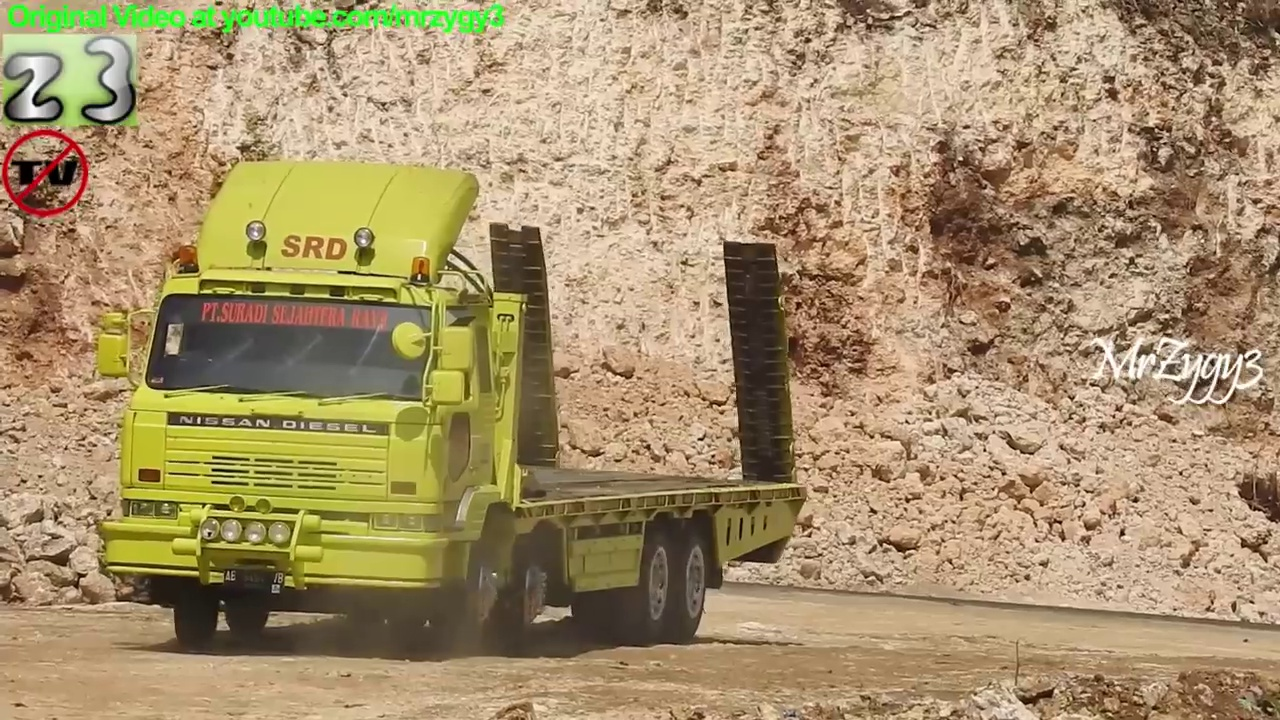truck: (85, 154, 812, 662)
